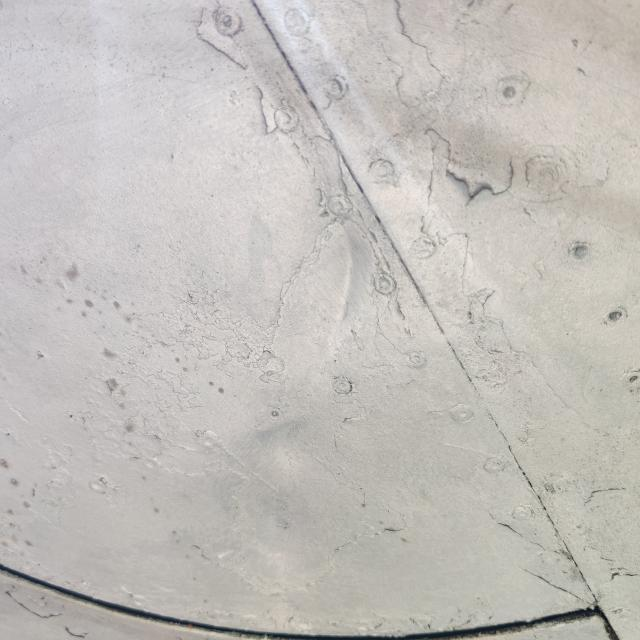dent: (273, 203, 394, 370)
